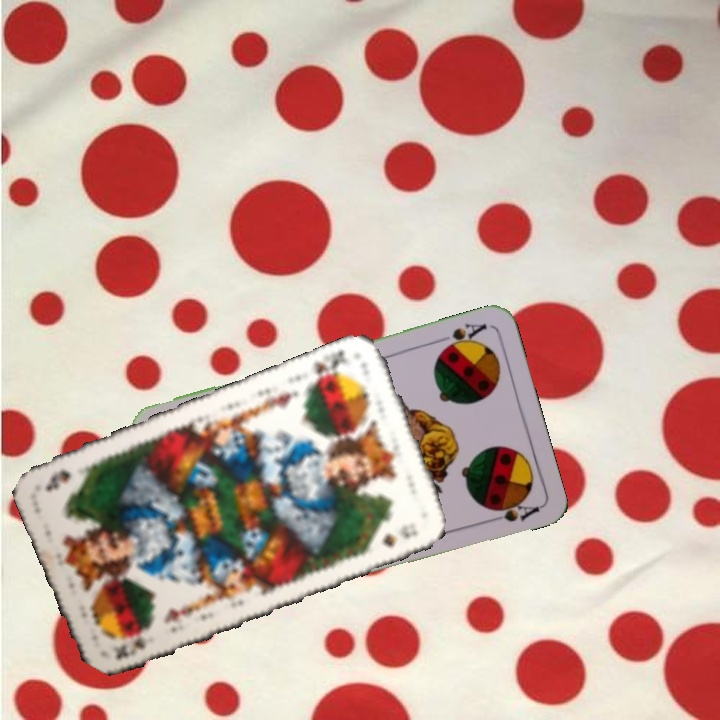SA: (433, 319, 490, 354)
SK: (110, 624, 157, 662), (307, 345, 349, 387)
